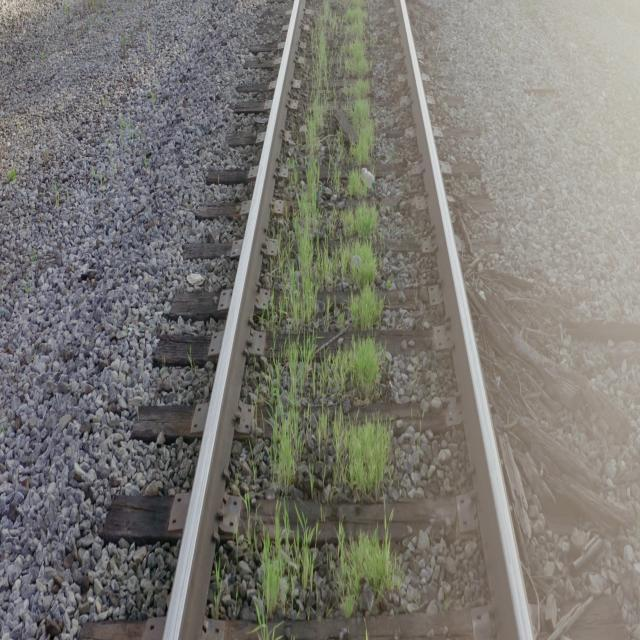Plant: (280, 2, 381, 331), (270, 338, 381, 496), (318, 407, 391, 498), (259, 518, 315, 622), (338, 531, 399, 616)
